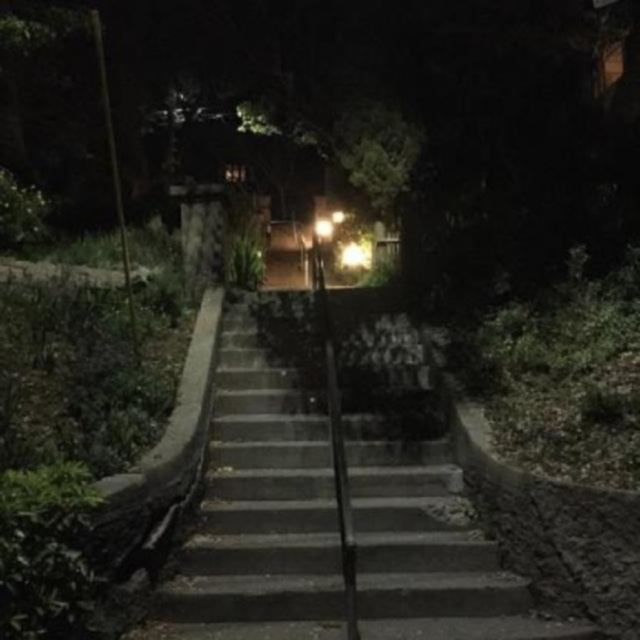stair: (157, 340, 526, 606)
